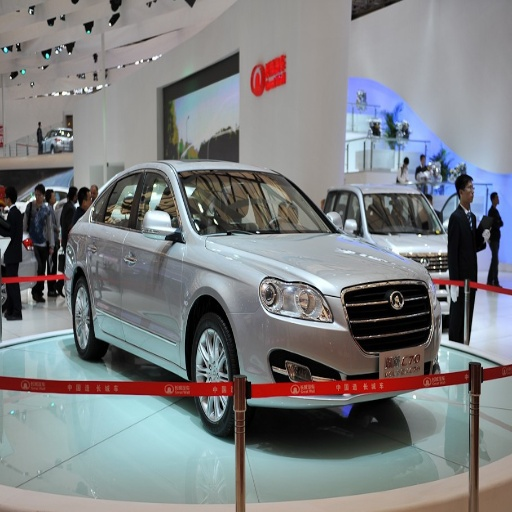front_bumper: (234, 279, 462, 407)
front_right_door: (124, 168, 183, 358)
front_right_light: (259, 274, 333, 323)
